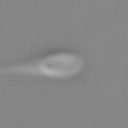normal: (1, 57, 41, 81)
